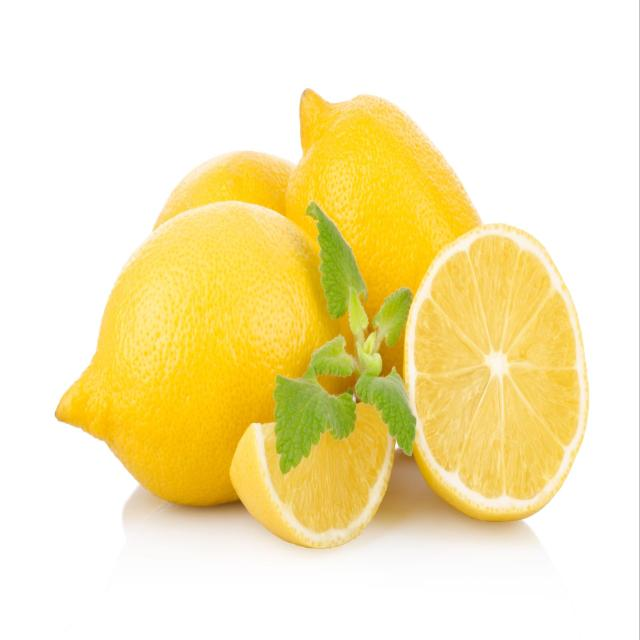lemon: (396, 215, 594, 529)
